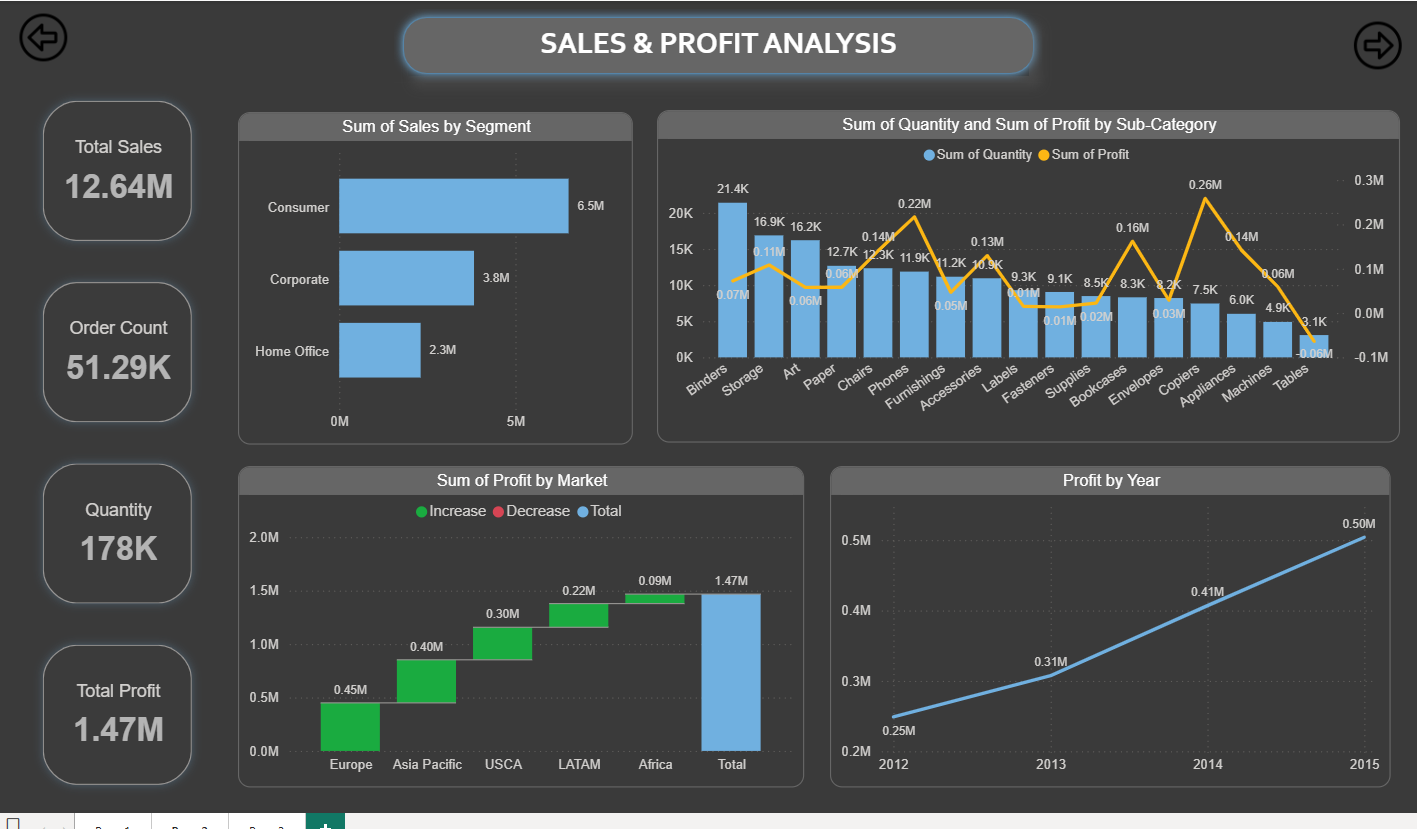

The page's visual inventory and layout, read from the dashboard file:
{"tool":"powerbi","page":{"name":"Page 2","canvas":[1280,730],"ordinal":1},"visuals":[{"type":"lineStackedColumnComboChart","fields":{"Category":["Orders.Sub-Category"],"Y":["Sum(Orders.Quantity)"],"Y2":["Sum(Orders.Profit)"]},"box":[596,98,668,299.4],"z":0},{"type":"shape","box":[359.6,6.3,583.5,67.4],"z":1000},{"type":"textbox","box":[372.2,17.1,558.3,50.3],"z":2000},{"type":"clusteredBarChart","fields":{"Category":["Orders.Segment"],"Y":["Sum(Orders.Sales)"]},"box":[219.4,99.8,355.1,299.4],"z":3000},{"type":"waterfallChart","fields":{"Category":["Orders.Market"],"Y":["Sum(Orders.Profit)"]},"box":[219.4,418,508.8,289.5],"z":4000},{"type":"cardVisual","fields":{"Data":["Sum(Orders.Sales)","CountNonNull(Orders.Order ID)","Sum(Orders.Quantity)","Sum(Orders.Profit)"]},"box":[27.9,73.7,166.3,650],"z":5000},{"type":"lineChart","title":"Profit by Year","fields":{"Y":["Sum(Orders.Profit)"],"Category":["Orders.Order Date.Variation.Date Hierarchy.Year"]},"box":[751.6,418,504.3,289.5],"z":6000},{"type":"image","box":[0.9,6.3,87.2,53],"z":7000},{"type":"image","box":[1214.6,13.5,59.3,53],"z":8000}]}

Visuals, with their boxes in screenshot pixels (x1, y1, x2, y2), scaled from the page's 1280x730 canvas onto the 1417x829 screenshot:
lineStackedColumnComboChart - Orders.Sub-Category x Sum(Orders.Quantity): [660,111,1399,451]
shape: [398,7,1044,84]
textbox: [412,19,1030,77]
clusteredBarChart - Orders.Segment x Sum(Orders.Sales): [243,113,636,453]
waterfallChart - Orders.Market x Sum(Orders.Profit): [243,475,806,803]
cardVisual - Sum(Orders.Sales) x CountNonNull(Orders.Order ID): [31,84,215,822]
"Profit by Year" lineChart: [832,475,1390,803]
image: [1,7,98,67]
image: [1345,15,1410,76]
